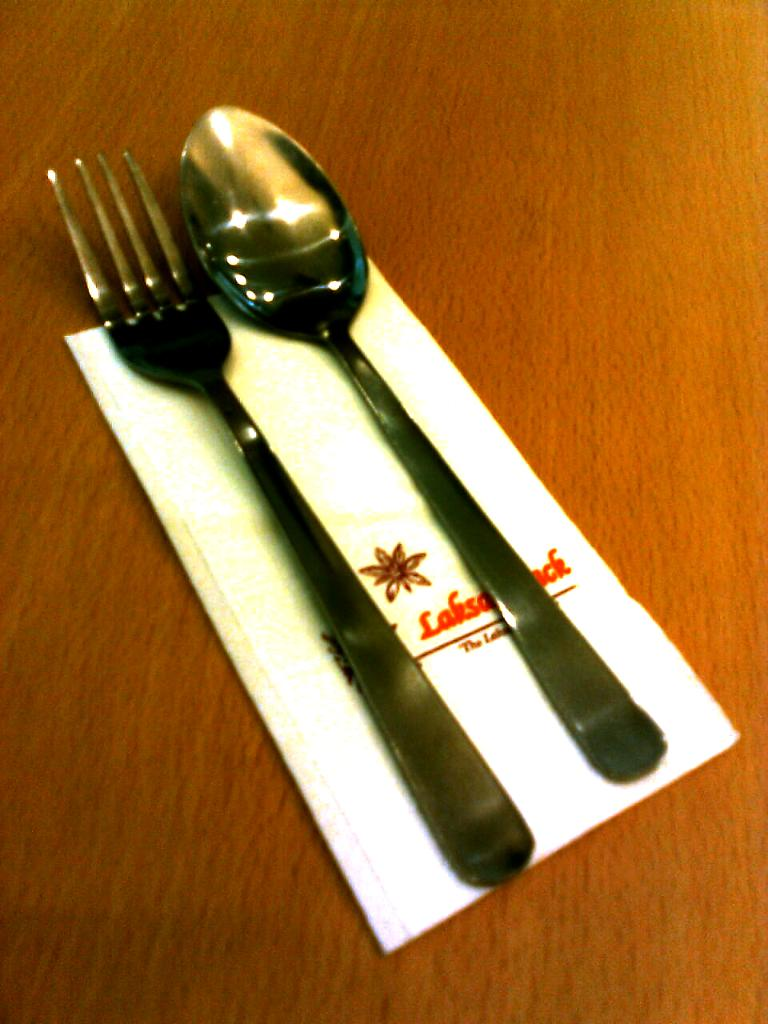fork: (46, 149, 536, 887)
